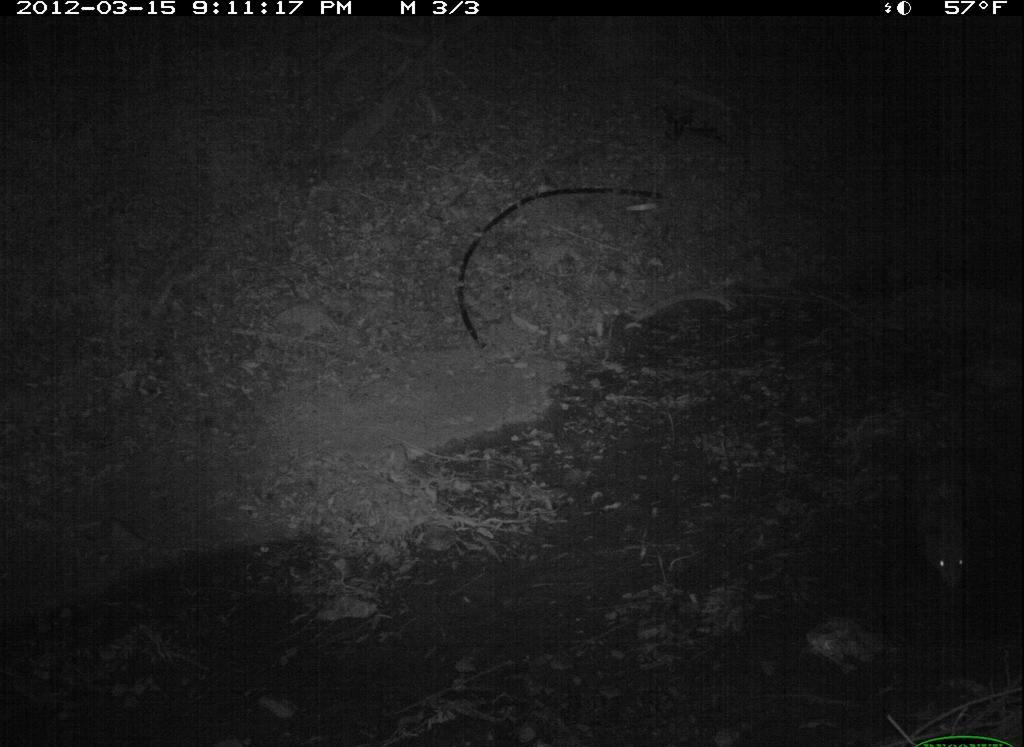opossum: (911, 443, 978, 603)
